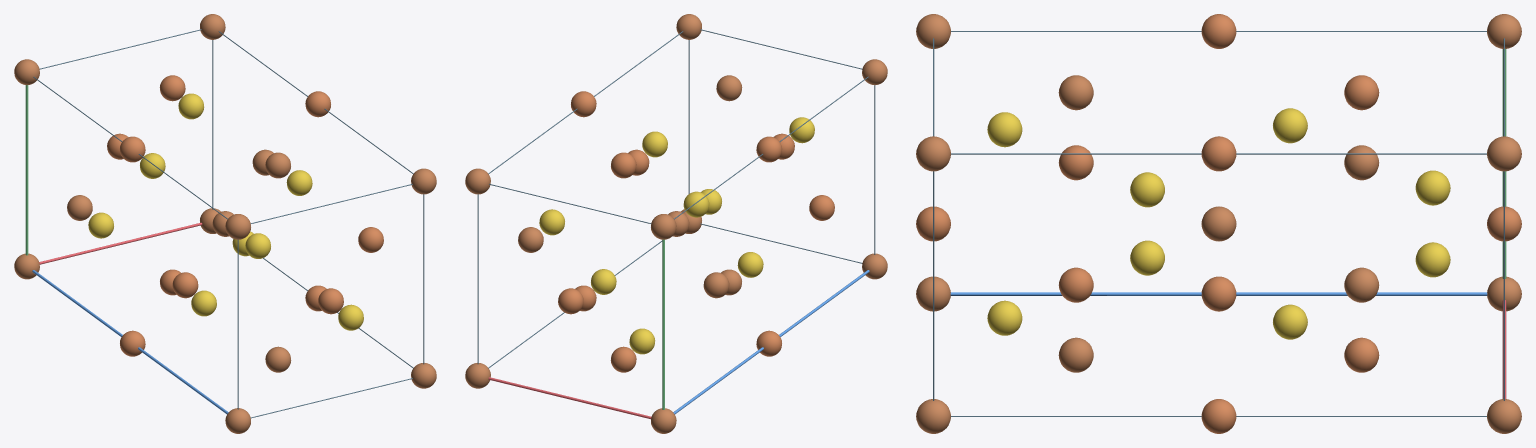
Rendered from chalcopyrite.glb.
3 renders of one model, left to right at view 1: azimuth 30°, elevation 25°; view 2: azimuth 150°, elevation 25°; view 3: azimuth 270°, elevation 25°, orthographic. The views are drawn at different scales.
Parts seen in each view (by area): view 1: Cu · Cu · 1 (×10), Ô mạng và các trục a, b, c, S · S · 1 (×7), Fe · Fe · 1 (×7); view 2: Cu · Cu · 1 (×10), Ô mạng và các trục a, b, c, S · S · 1 (×7), Fe · Fe · 1 (×7); view 3: Cu · Cu · 1 (×13), Fe · Fe · 1 (×10), S · S · 1 (×8), Ô mạng và các trục a, b, c.
Boxes of the visible parts, <box> form: Cu · Cu · 1 (×10): <box>14,14,436,433</box>; Ô mạng và các trục a, b, c: <box>25,29,424,418</box>; S · S · 1 (×7): <box>88,93,363,330</box>; Fe · Fe · 1 (×7): <box>120,75,383,356</box>; Cu · Cu · 1 (×10): <box>465,14,887,433</box>; Ô mạng và các trục a, b, c: <box>477,29,875,419</box>; S · S · 1 (×7): <box>539,117,814,354</box>; Fe · Fe · 1 (×7): <box>558,91,834,372</box>; Cu · Cu · 1 (×13): <box>916,14,1521,433</box>; Fe · Fe · 1 (×10): <box>916,14,1521,433</box>; S · S · 1 (×8): <box>987,108,1450,339</box>; Ô mạng và các trục a, b, c: <box>933,31,1506,416</box>.
Bounding box in the file's own units: 5.93 × 5.93 × 11.06.
